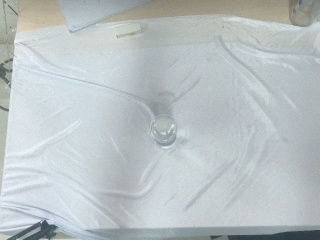bottle: (148, 114, 178, 152)
